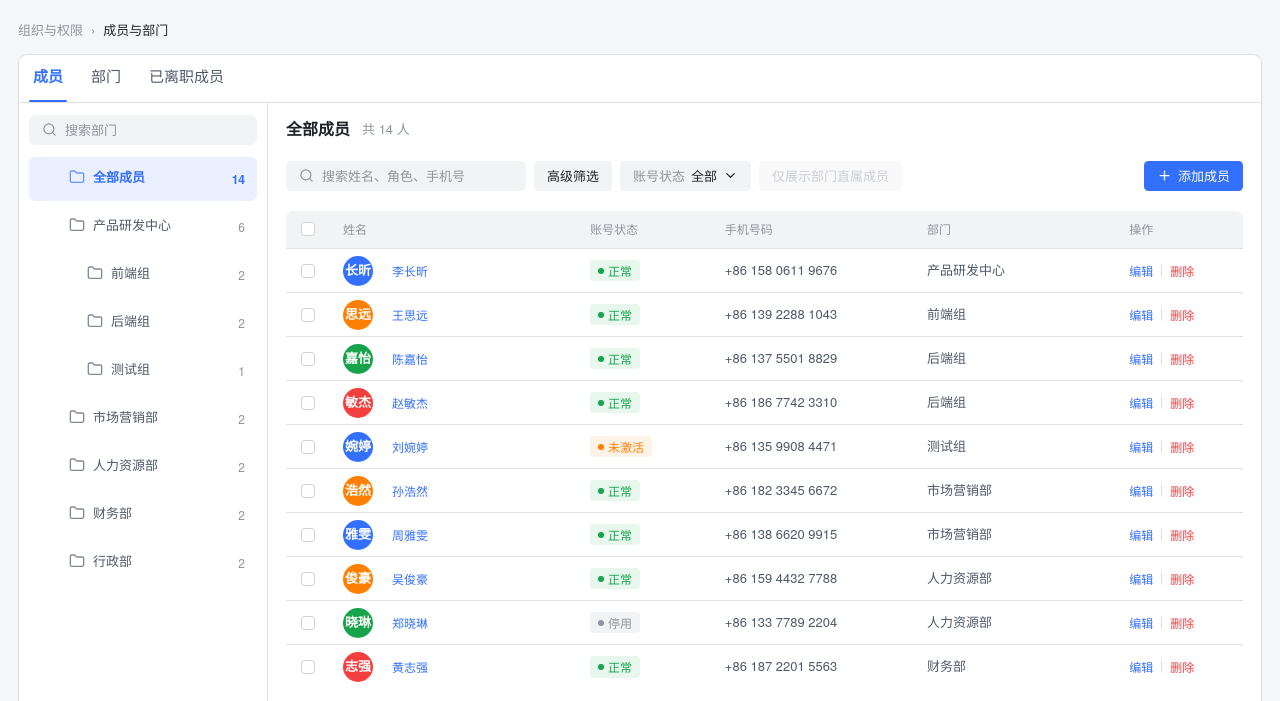
members scene confirms delete through user mutations and refreshes list
Check: the text "李长昕" is shown, box [392,262,428,278]
Click the button "删除" in the row of "+86 158 0611 9676". click: [1182, 270]
box: [1170,258,1194,282]
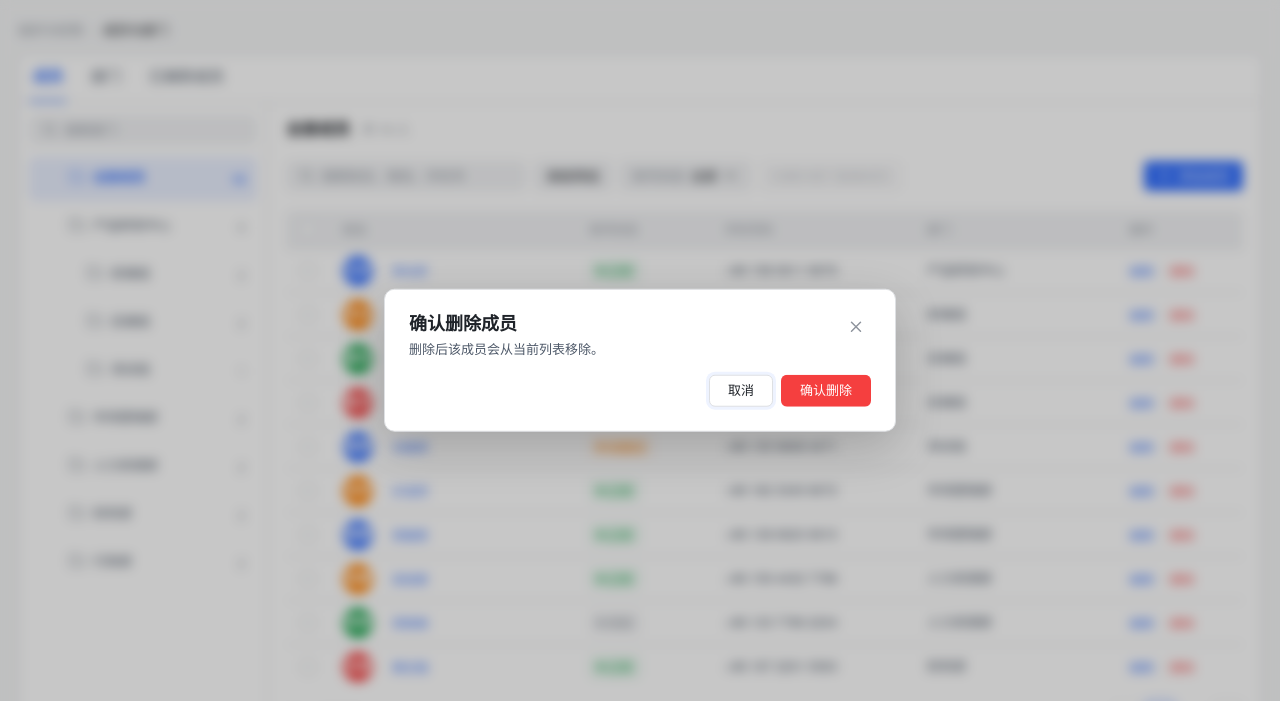
Check: the dialog "确认删除成员" is shown, box [384,289,896,431]
Click the button "确认删除". click: [826, 390]
box: [781,374,871,406]
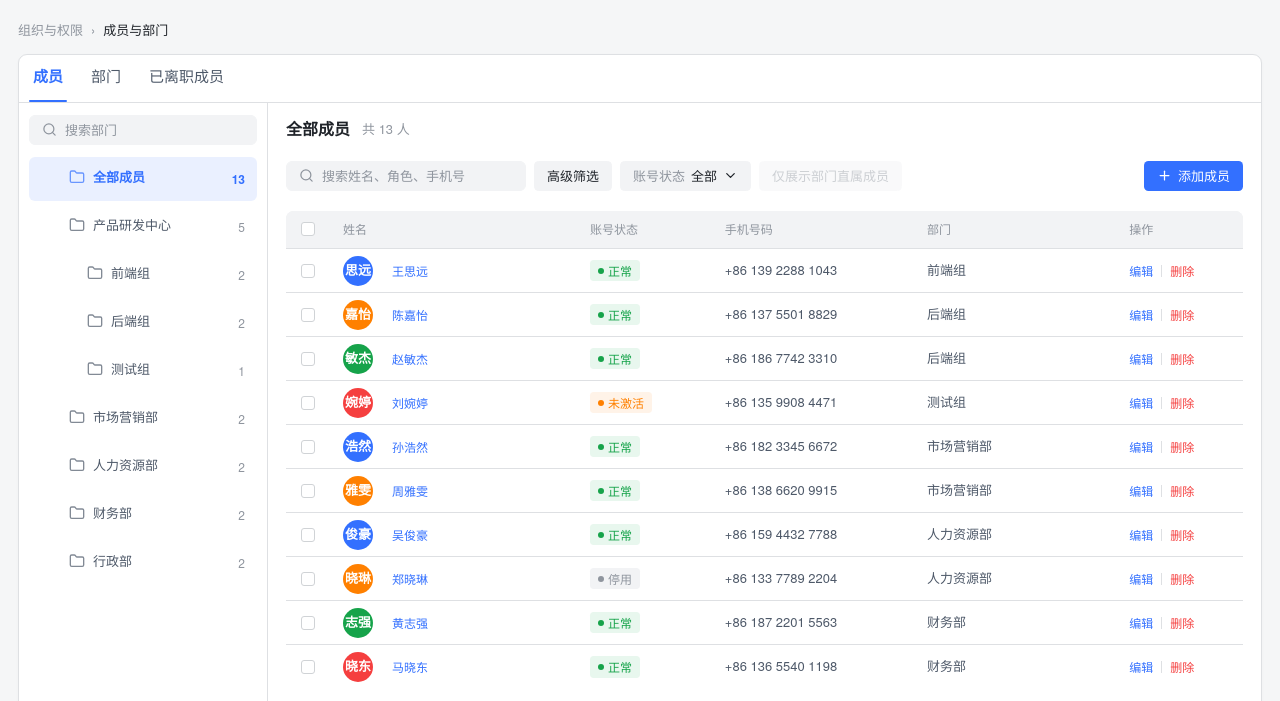
Check: the button "李长昕" is gone
